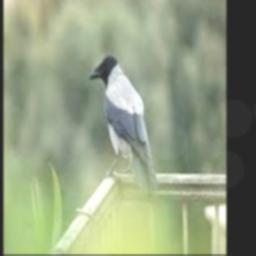Crow: (89, 53, 158, 191)
